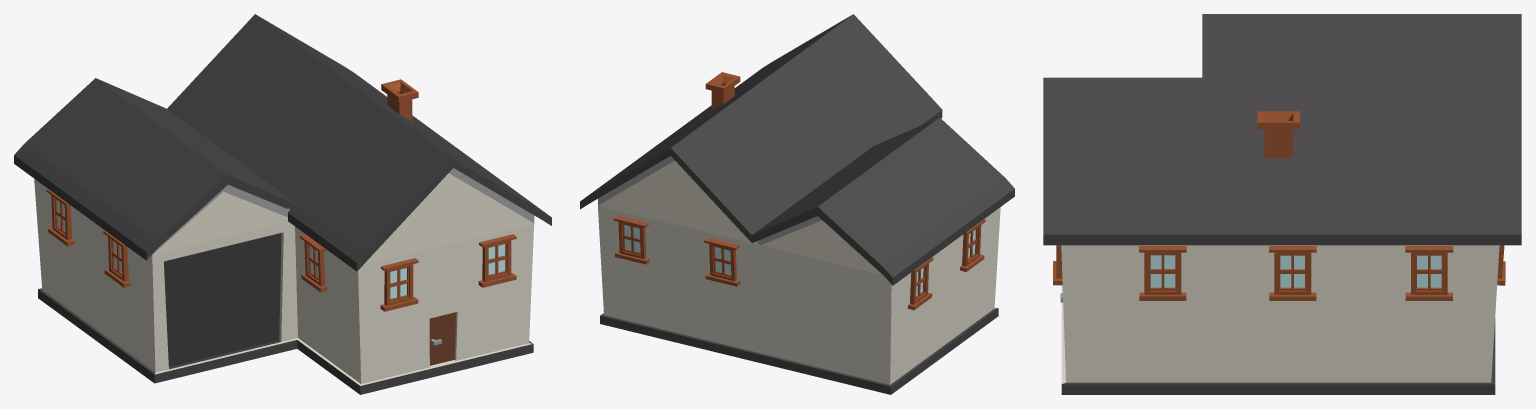
The model's file is House5.glb.
3 views of the same model, side by side, from view 1: azimuth 30°, elevation 25°; view 2: azimuth 150°, elevation 25°; view 3: azimuth 270°, elevation 25° (orthographic). The views are drawn at different scales.
Parts seen in each view (by area): view 1: House5; view 2: House5; view 3: House5.
Boxes of the visible parts, left/top/right/bottom form: House5: left=14, top=14, right=551, bottom=394; House5: left=580, top=14, right=1014, bottom=394; House5: left=1043, top=14, right=1521, bottom=394.
Bounding box in the file's own units: 2.16 × 1.34 × 2.19.
1 material, 1 textured.
